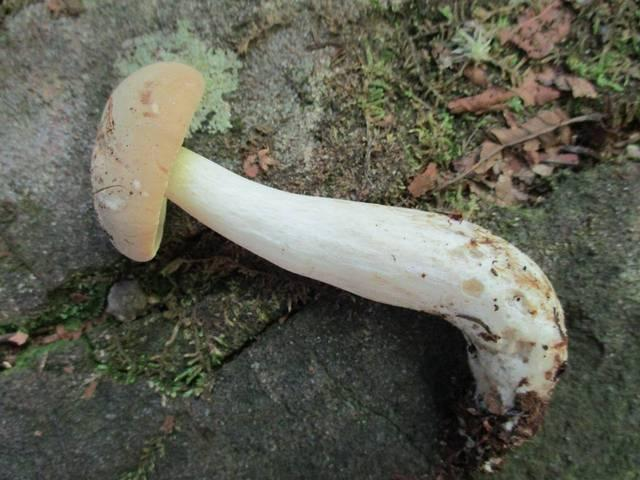Edible Mushroom: (88, 59, 570, 470)
